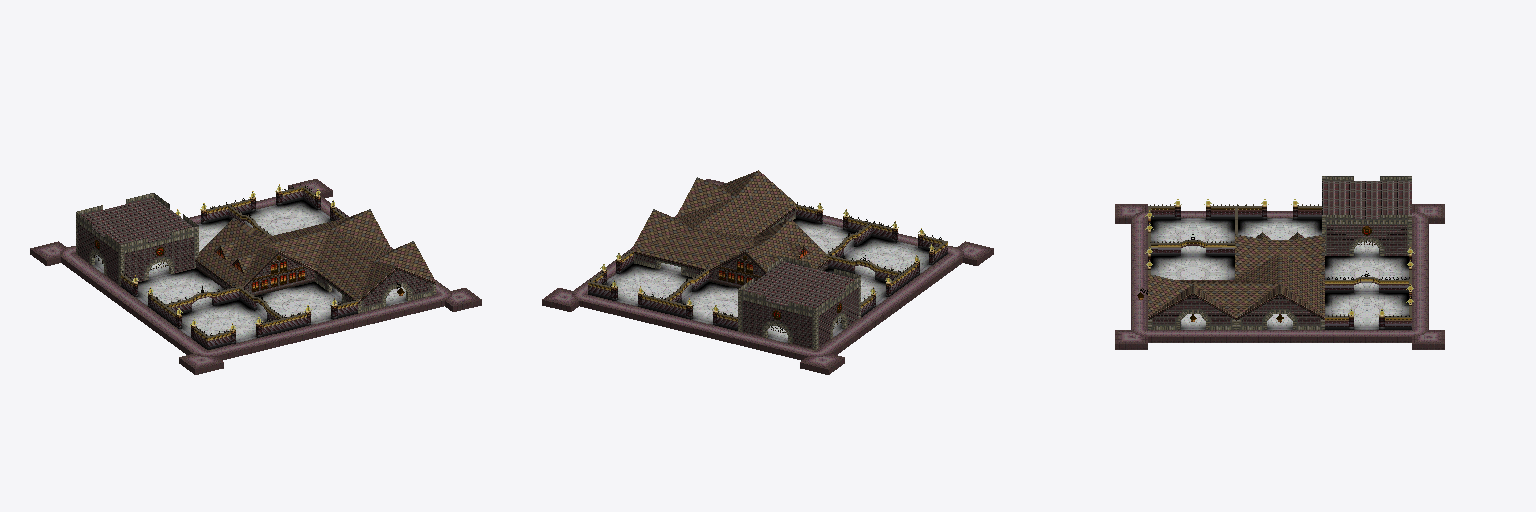
The picture shows the model from 3 angles: view 1: azimuth 30°, elevation 25°; view 2: azimuth 150°, elevation 25°; view 3: azimuth 270°, elevation 25°; orthographic projection.
Parts seen in each view (by area): view 1: polygon7, polygon12, polygon13, polygon15, polygon10, polygon14, polygon9; view 2: polygon7, polygon13, polygon12, polygon15, polygon10, polygon14; view 3: polygon12, polygon13, polygon7, polygon10, polygon15, polygon14.
Part boxes in pixels (x1,y1,x2,y2): polygon7: (196, 209, 435, 300); polygon12: (92, 200, 407, 342); polygon13: (30, 179, 481, 374); polygon15: (76, 186, 435, 349); polygon10: (78, 198, 431, 306); polygon14: (133, 190, 435, 343); polygon9: (216, 249, 404, 295); polygon7: (632, 170, 827, 271); polygon13: (542, 179, 993, 374); polygon12: (605, 218, 931, 342); polygon15: (588, 205, 947, 349); polygon10: (636, 210, 858, 348); polygon14: (601, 206, 934, 325); polygon12: (1151, 218, 1408, 329); polygon13: (1115, 204, 1444, 349); polygon7: (1148, 232, 1324, 317); polygon10: (1153, 181, 1411, 324); polygon15: (1148, 176, 1411, 329); polygon14: (1148, 205, 1411, 329).
Bounding box in the file's own units: 124 × 19.66 × 124.
16 materials, 16 textured.